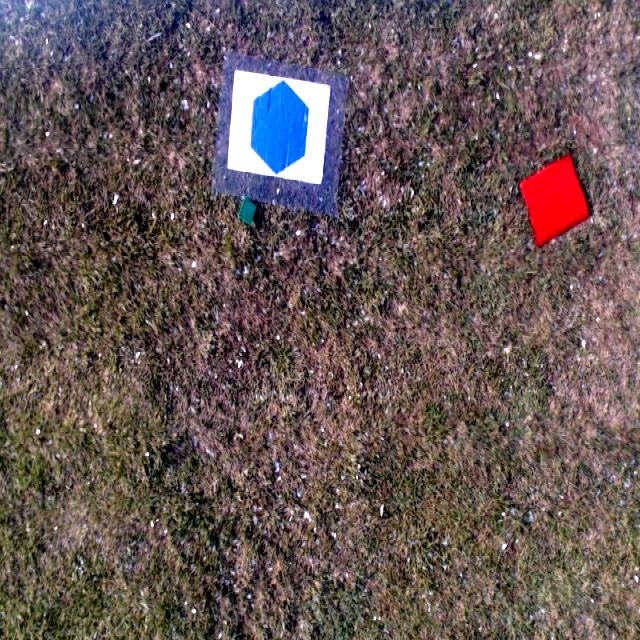blue_hexagon: (248, 77, 312, 176)
red_square: (517, 158, 597, 248)
